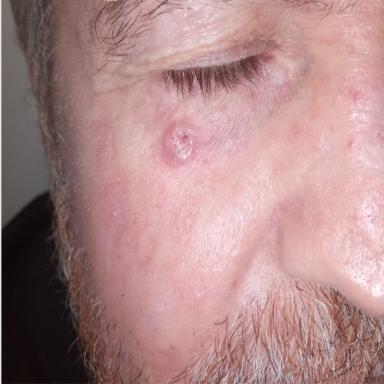basal-cell-carcinoma: (162, 122, 197, 166)
